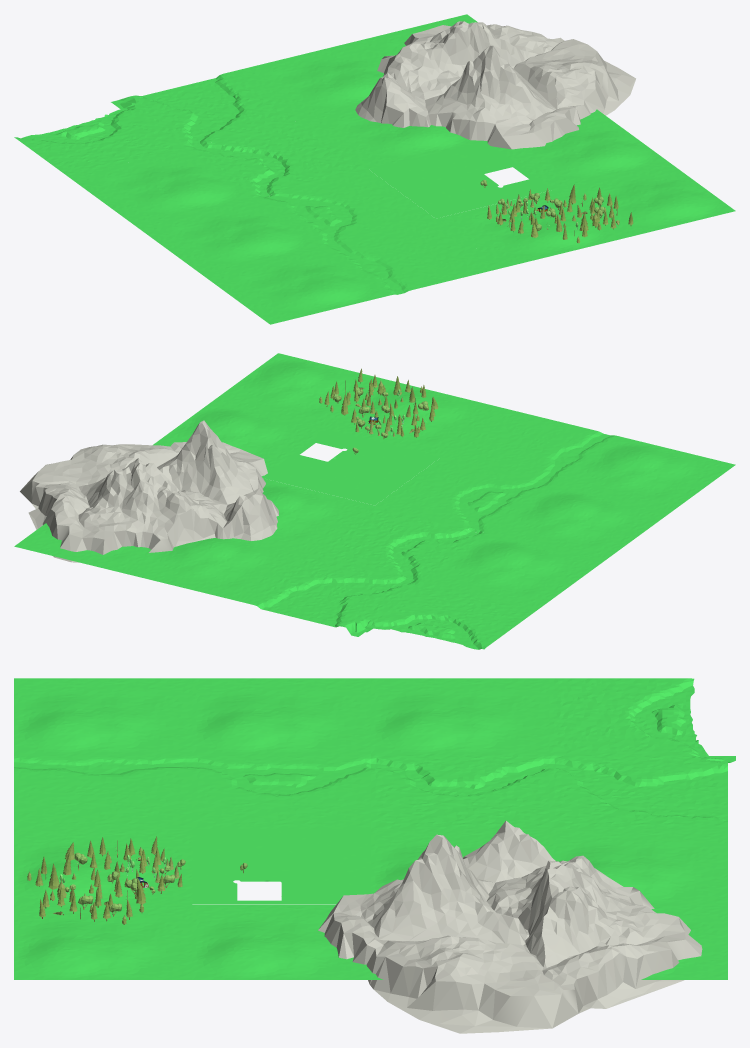
Rendered from landscape.glb.
The picture shows the model from 3 angles, top to bottom: view 1: azimuth 30°, elevation 25°; view 2: azimuth 150°, elevation 25°; view 3: azimuth 270°, elevation 25°; orthographic projection. The views are drawn at different scales.
Visible parts, largest first — view 1: MT_Mountain_L_e_02, MT_Terrain_L_a_06, MT_Terrain_L_a_06.001, MT_River_L_a_02, MT_Terrain_L_a_06.003, MT_River_L_a_03, MT_River_L_a_04, MT_River_End_L_b_01, MT_Terrain_L_a_06.008, MT_Terrain_L_a_06.006, MT_Terrain_L_a_06.011, MT_Terrain_L_a_06.010 (+4 smaller); view 2: MT_Mountain_L_e_02, MT_River_End_L_b_01, MT_River_L_a_04, MT_Terrain_L_a_06.003, MT_Terrain_L_a_06.001, MT_River_L_a_03, MT_Terrain_L_a_06, MT_River_L_a_02, MT_Terrain_L_a_06.008, MT_Terrain_L_a_06.006, MT_Terrain_L_a_06.011, MT_River_L_a_04_R.001 (+4 smaller); view 3: MT_Mountain_L_e_02, MT_Terrain_L_a_06, MT_Terrain_L_a_06.001, MT_Terrain_L_a_06.003, MT_River_L_a_04, MT_River_L_a_02, MT_River_End_L_b_01, MT_River_L_a_03, MT_Terrain_L_a_06.006, MT_Terrain_L_a_06.008, MT_Terrain_L_a_06.002, MT_River_L_a_04_R.001 (+4 smaller).
Boxes of the visible parts, x1=… form: MT_Mountain_L_e_02: x1=355, y1=21, x2=635, y2=149; MT_Terrain_L_a_06: x1=136, y1=198, x2=318, y2=275; MT_Terrain_L_a_06.001: x1=203, y1=247, x2=386, y2=324; MT_River_L_a_02: x1=320, y1=218, x2=502, y2=295; MT_Terrain_L_a_06.003: x1=69, y1=149, x2=251, y2=225; MT_River_L_a_03: x1=185, y1=120, x2=368, y2=197; MT_River_L_a_04: x1=253, y1=169, x2=435, y2=246; MT_River_End_L_b_01: x1=111, y1=71, x2=300, y2=148; MT_Terrain_L_a_06.008: x1=369, y1=141, x2=551, y2=218; MT_Terrain_L_a_06.006: x1=553, y1=162, x2=735, y2=239; MT_Terrain_L_a_06.011: x1=234, y1=42, x2=383, y2=120; MT_Terrain_L_a_06.010: x1=436, y1=190, x2=619, y2=267; MT_Mountain_L_e_02: x1=20, y1=420, x2=278, y2=562; MT_River_End_L_b_01: x1=243, y1=554, x2=422, y2=636; MT_River_L_a_04: x1=375, y1=457, x2=554, y2=533; MT_Terrain_L_a_06.003: x1=424, y1=533, x2=603, y2=609; MT_Terrain_L_a_06.001: x1=556, y1=437, x2=735, y2=512; MT_River_L_a_03: x1=309, y1=505, x2=488, y2=581; MT_Terrain_L_a_06: x1=490, y1=485, x2=669, y2=561; MT_River_L_a_02: x1=441, y1=409, x2=620, y2=485; MT_Terrain_L_a_06.008: x1=262, y1=429, x2=440, y2=505; MT_Terrain_L_a_06.006: x1=212, y1=353, x2=392, y2=429; MT_Terrain_L_a_06.011: x1=128, y1=538, x2=308, y2=602; MT_River_L_a_04_R.001: x1=365, y1=582, x2=537, y2=649; MT_Mountain_L_e_02: x1=318, y1=821, x2=702, y2=1033; MT_Terrain_L_a_06: x1=192, y1=678, x2=370, y2=753; MT_Terrain_L_a_06.001: x1=14, y1=678, x2=192, y2=753; MT_Terrain_L_a_06.003: x1=371, y1=678, x2=549, y2=753; MT_River_L_a_04: x1=192, y1=753, x2=370, y2=828; MT_River_L_a_02: x1=14, y1=753, x2=192, y2=828; MT_River_End_L_b_01: x1=549, y1=753, x2=735, y2=828; MT_River_L_a_03: x1=371, y1=753, x2=549, y2=828; MT_Terrain_L_a_06.006: x1=14, y1=904, x2=192, y2=979; MT_Terrain_L_a_06.008: x1=192, y1=829, x2=370, y2=904; MT_Terrain_L_a_06.002: x1=192, y1=904, x2=370, y2=979; MT_River_L_a_04_R.001: x1=549, y1=678, x2=708, y2=757.
Size of what is drawn, in the model's own units: 917 by 124 by 809.
Materials: 6 (5 with a texture image).
